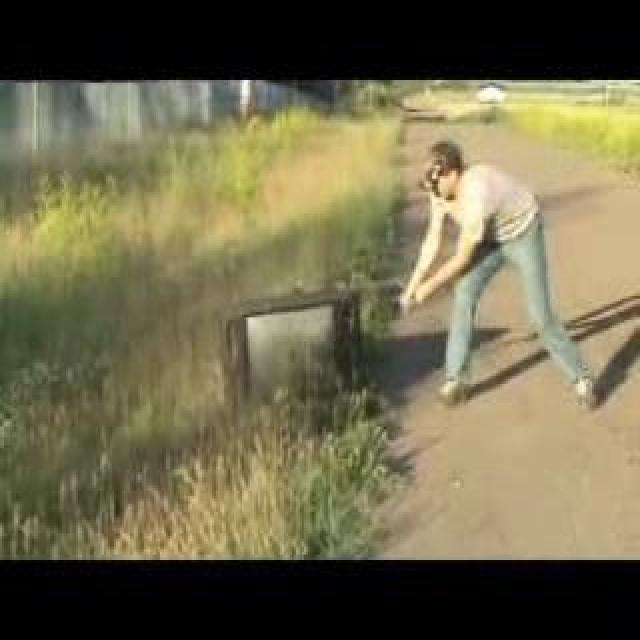fight: (177, 108, 629, 428)
